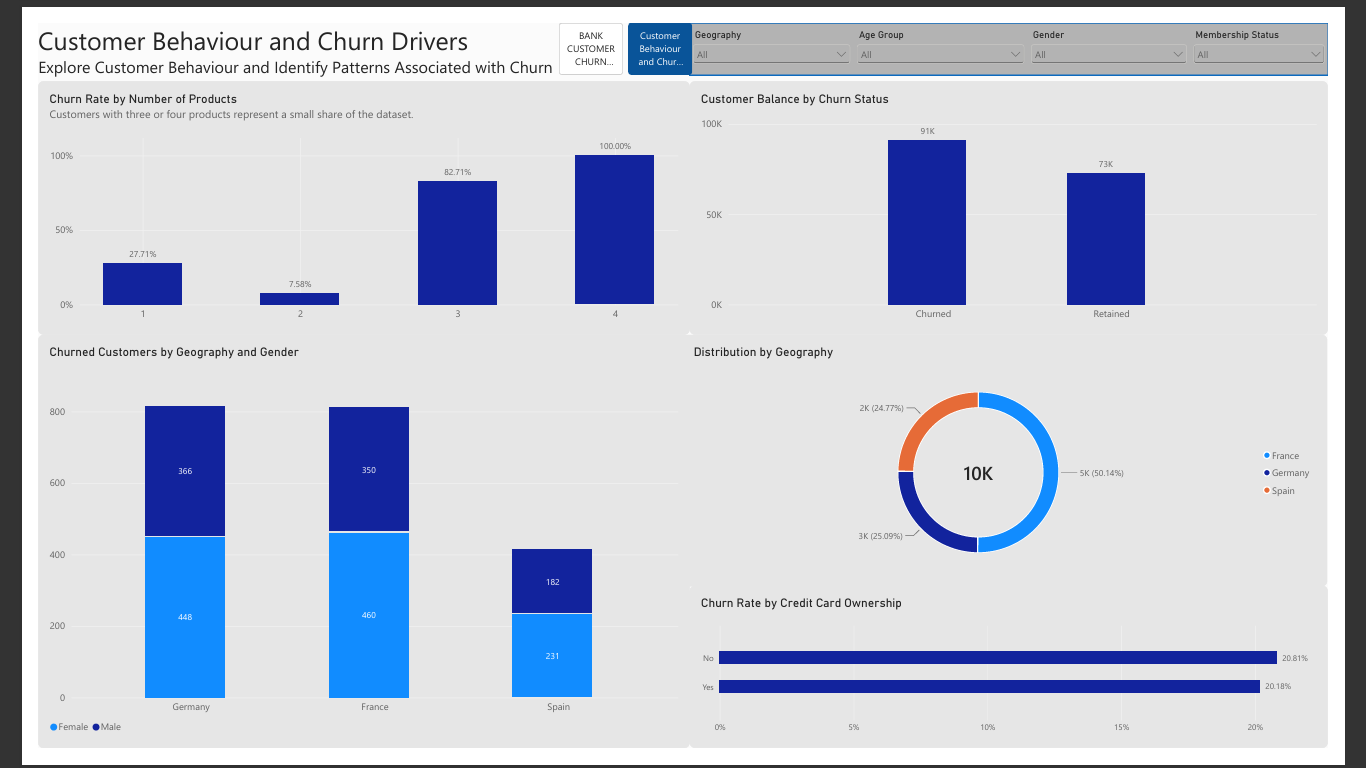

This screenshot's page, from the dashboard's own definition file:
{"tool":"powerbi","page":{"name":"Customer Behaviour and Churn Drivers","canvas":[1920,1080],"ordinal":1},"visuals":[{"type":"textbox","box":[10,0,280,280],"z":0},{"type":"textbox","box":[0,0,775.4,86.4],"z":1},{"type":"clusteredColumnChart","title":"Churn Rate by Number of Products","fields":{"Category":["Bank_Churn_cleaned.NumOfProducts"],"Y":["Bank_Churn_cleaned.Churn Rate"]},"box":[0,86.4,969.8,378],"z":2},{"type":"donutChart","title":"Distribution by Geography","fields":{"Category":["Bank_Churn_cleaned.Geography"],"Y":["Bank_Churn_cleaned.Total Customers"]},"box":[959.8,463.4,960.2,375.1],"z":3},{"type":"columnChart","title":"Churned Customers by Geography and Gender","fields":{"Category":["Bank_Churn_cleaned.Geography"],"Series":["Bank_Churn_cleaned.Gender"],"Y":["Bank_Churn_cleaned.Churned Customers"]},"box":[0,464.4,969.8,615.6],"z":4},{"type":"clusteredColumnChart","title":"Customer Balance by Churn Status","fields":{"Category":["Bank_Churn_cleaned.Churn Status"],"Y":["Bank_Churn_cleaned.Average Balance"]},"box":[969.6,86.4,950.4,378],"z":5},{"type":"clusteredBarChart","title":"Churn Rate by Credit Card Ownership","fields":{"Category":["Bank_Churn_cleaned.Credit Card Status"],"Y":["Bank_Churn_cleaned.Churn Rate"]},"box":[969.6,838.1,950.4,241.9],"z":6},{"type":"shape","box":[969.6,0,950.4,77.8],"z":7},{"type":"slicer","fields":{"Values":["Bank_Churn_cleaned.Geography"]},"box":[969.8,8.6,244.1,69.1],"z":8},{"type":"slicer","fields":{"Values":["Bank_Churn_cleaned.Age Group"]},"box":[1213.9,8.6,259.2,69.1],"z":9},{"type":"slicer","fields":{"Values":["Bank_Churn_cleaned.Gender"]},"box":[1473.1,8.6,241.9,69.1],"z":10},{"type":"slicer","fields":{"Values":["Bank_Churn_cleaned.Membership Status"]},"box":[1714.8,8.6,205.2,69.1],"z":11},{"type":"pageNavigator","box":[775.4,0,198.7,77.8],"z":12}]}

Visuals, with their boxes on the page's 1920x1080 design canvas (x1, y1, x2, y2). These are canvas units, not pixel positions in the 1366x768 screenshot, which may show the page scaled, cropped or inside an application window:
textbox: [x1=10, y1=0, x2=290, y2=280]
textbox: [x1=0, y1=0, x2=775, y2=86]
"Churn Rate by Number of Products" clusteredColumnChart: [x1=0, y1=86, x2=970, y2=464]
"Distribution by Geography" donutChart: [x1=960, y1=463, x2=1920, y2=838]
"Churned Customers by Geography and Gender" columnChart: [x1=0, y1=464, x2=970, y2=1080]
"Customer Balance by Churn Status" clusteredColumnChart: [x1=970, y1=86, x2=1920, y2=464]
"Churn Rate by Credit Card Ownership" clusteredBarChart: [x1=970, y1=838, x2=1920, y2=1080]
shape: [x1=970, y1=0, x2=1920, y2=78]
slicer - Bank_Churn_cleaned.Geography: [x1=970, y1=9, x2=1214, y2=78]
slicer - Bank_Churn_cleaned.Age Group: [x1=1214, y1=9, x2=1473, y2=78]
slicer - Bank_Churn_cleaned.Gender: [x1=1473, y1=9, x2=1715, y2=78]
slicer - Bank_Churn_cleaned.Membership Status: [x1=1715, y1=9, x2=1920, y2=78]
pageNavigator: [x1=775, y1=0, x2=974, y2=78]
